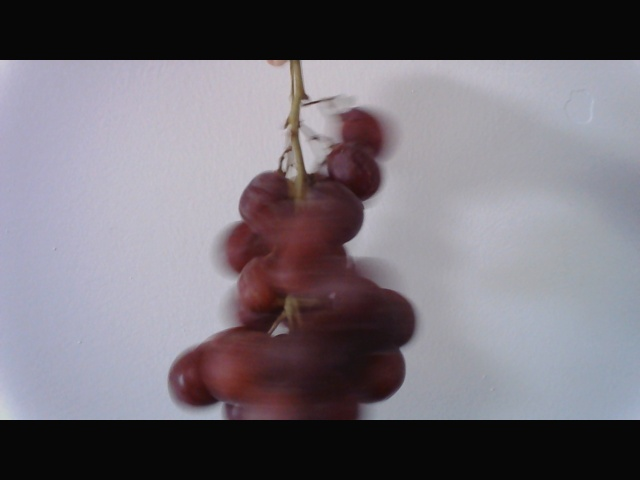grape: (164, 128, 408, 415)
